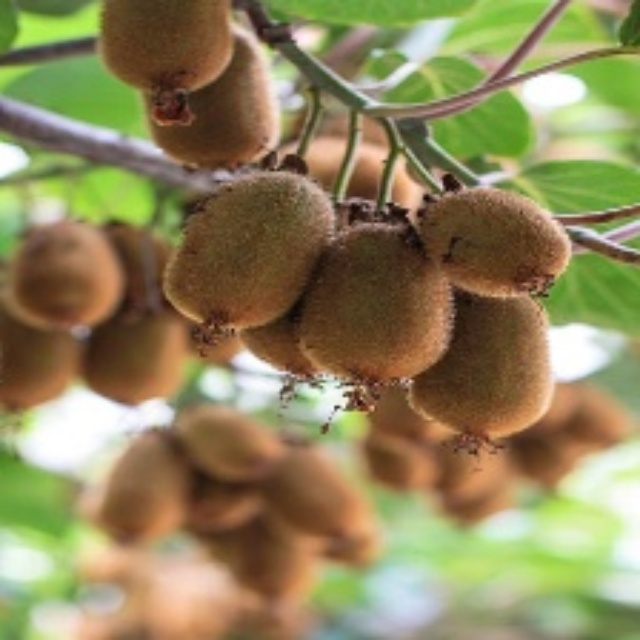kiwi: (162, 179, 335, 344), (412, 296, 566, 470), (306, 215, 455, 390), (145, 38, 285, 164), (415, 186, 564, 299), (89, 0, 241, 109), (13, 217, 136, 342), (64, 308, 200, 409)
